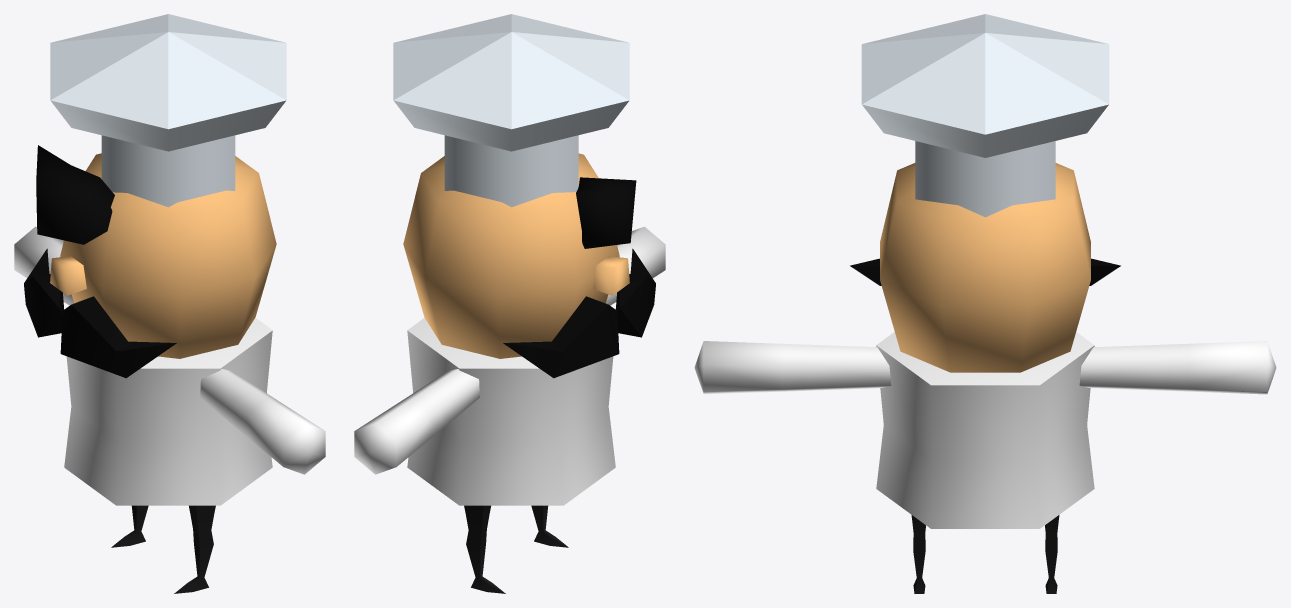
The model's file is Chief.FBX.
3 renders of one model, left to right at view 1: azimuth 30°, elevation 25°; view 2: azimuth 150°, elevation 25°; view 3: azimuth 270°, elevation 25°, orthographic. The views are drawn at different scales.
Parts seen in each view (by area): view 1: chief; view 2: chief; view 3: chief.
Part boxes in pixels (<box>): chief: <box>14,14,325,593</box>; chief: <box>354,14,665,593</box>; chief: <box>694,14,1276,593</box>.
Size of the model in its own units: 1.29 by 2.69 by 2.55.
